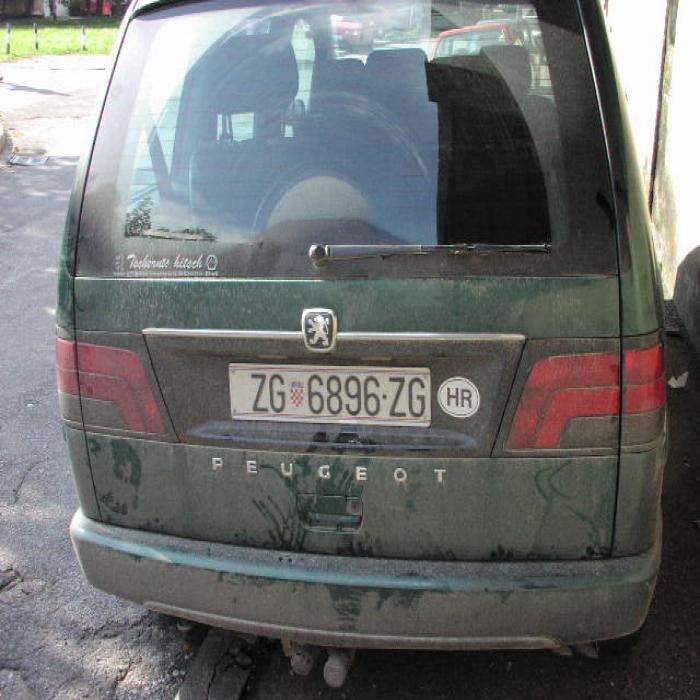number_plate: (228, 365, 428, 423)
